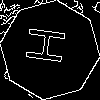H: (25, 25, 75, 67)
